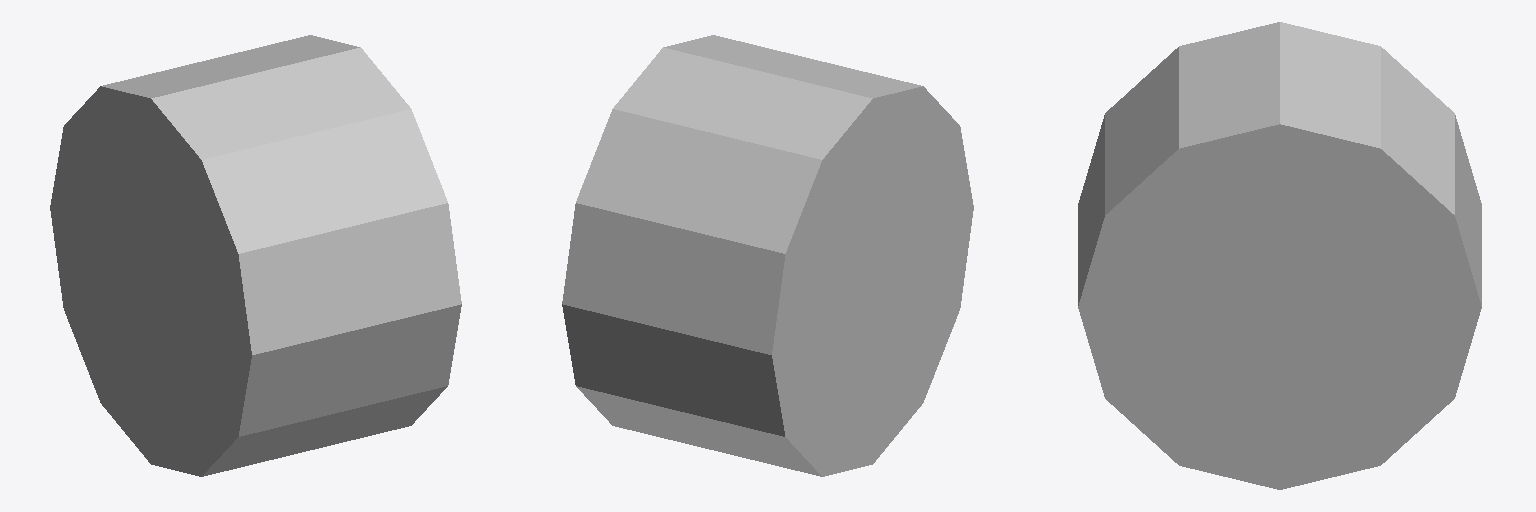
Rendered from wheel.obj.
3 renders of one model, left to right at view 1: azimuth 30°, elevation 25°; view 2: azimuth 150°, elevation 25°; view 3: azimuth 270°, elevation 25°, orthographic.
Parts seen in each view (by area): view 1: Wheel; view 2: Wheel; view 3: Wheel.
Part boxes in pixels (x1,y1,x2,y2): Wheel: (50,35,461,476); Wheel: (562,35,973,476); Wheel: (1078,22,1481,489).
Size of the model in its own units: 1.2 by 2 by 2.